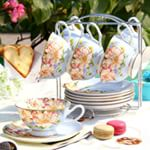cups: (12, 96, 87, 138), (97, 22, 141, 86), (36, 19, 74, 84), (64, 20, 103, 83)
